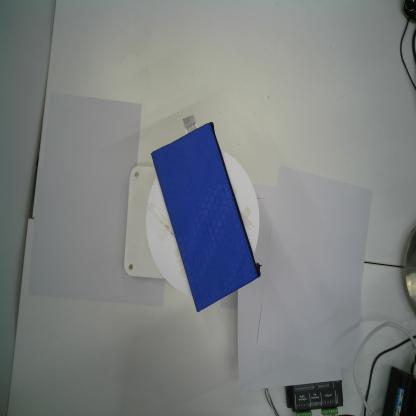Stationery: (152, 120, 262, 312)
